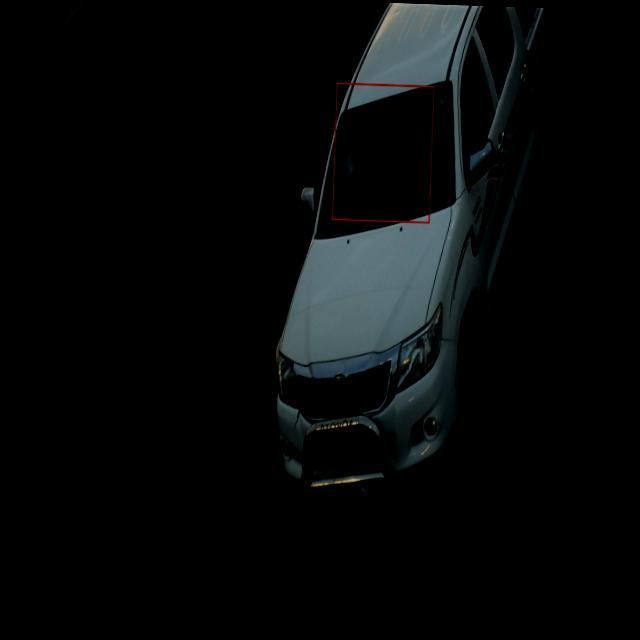windshield: (309, 80, 466, 238)
